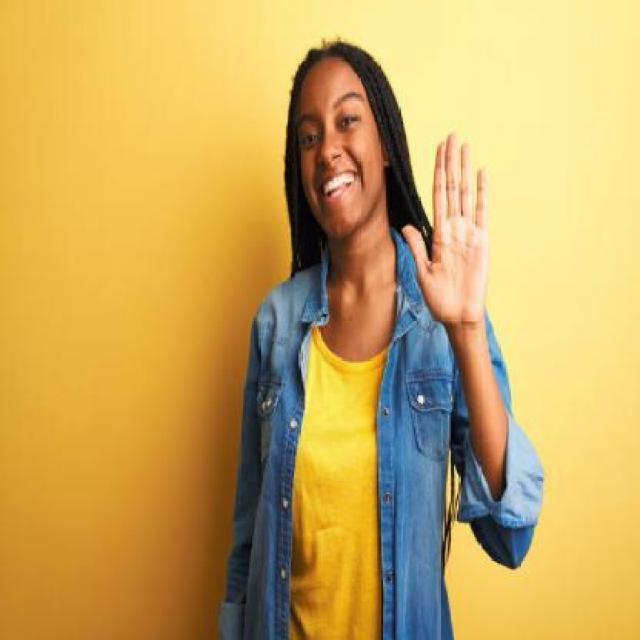no-gloves: (392, 110, 506, 348)
